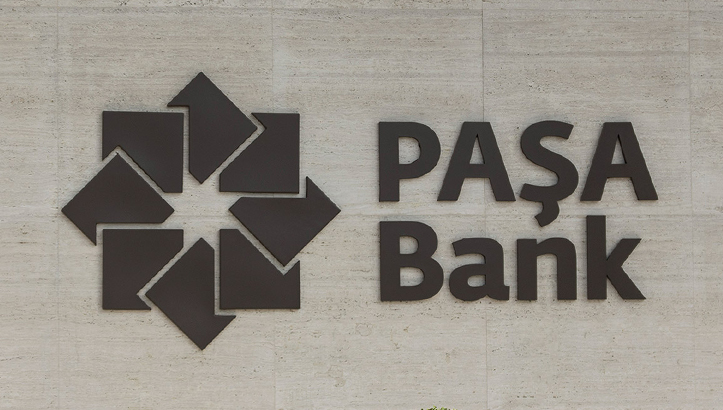Pasha Bank: (57, 69, 344, 354)
